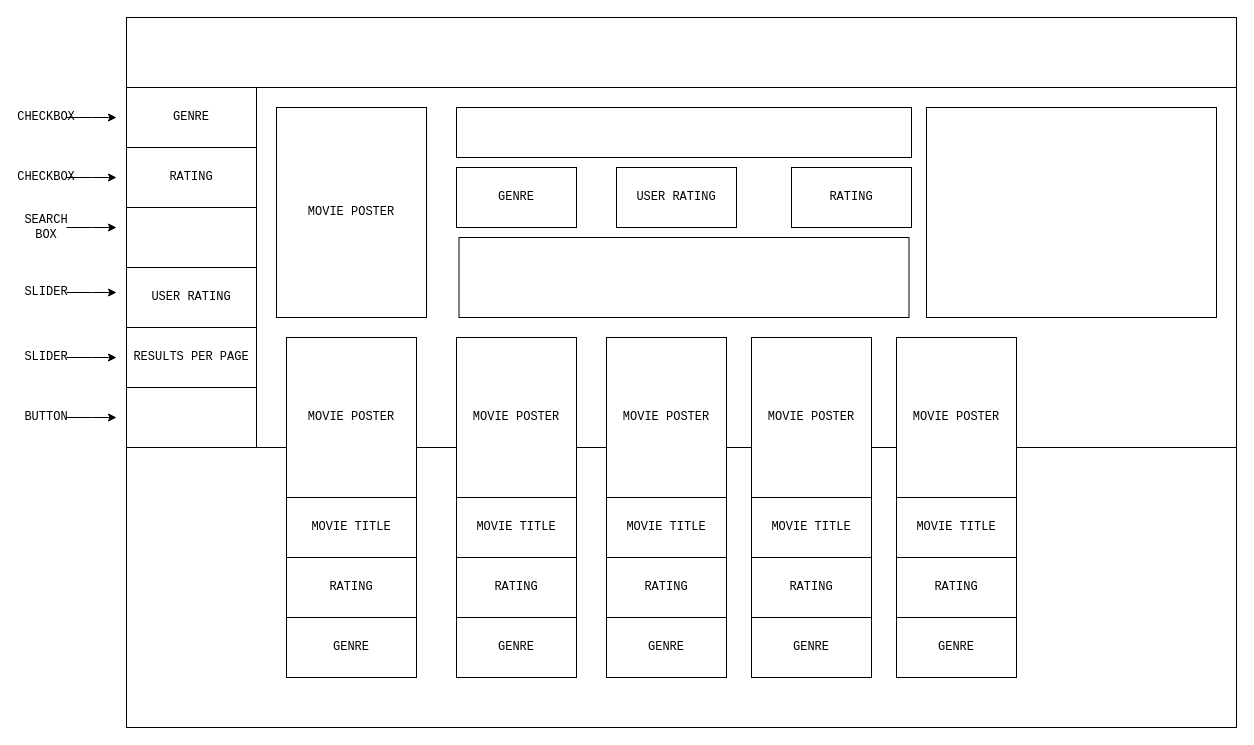
Some shapes in this 1254 by 745 pixel diagram are drawn without their labels. The shapes that lost their labels are listed below. From the top down, each one's centre as x and y in pixels, then its label:
the point at 681,52: Page Header
the point at 684,132: MAIN SEARCH RESULT TITLE
the point at 1071,212: MOVIE TRAILER
the point at 191,237: SEARCH FOR ACTOR
the point at 683,277: MOVIE DESCRIPTION
the point at 191,417: SEARCH
